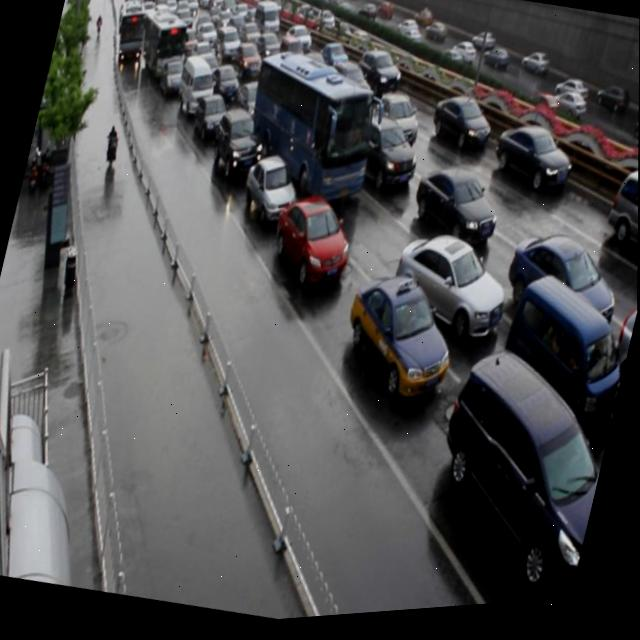car: (333, 269, 466, 417), (383, 229, 515, 359), (496, 232, 626, 353), (263, 191, 359, 299), (405, 166, 505, 257), (485, 126, 578, 216), (353, 116, 425, 206), (236, 151, 306, 235), (425, 92, 496, 162), (207, 108, 268, 184), (600, 296, 638, 415), (367, 95, 425, 159), (351, 50, 405, 108), (189, 93, 231, 151), (230, 84, 270, 134), (206, 65, 243, 112)
truck: (412, 343, 624, 613), (486, 273, 638, 454), (597, 172, 639, 282)
van: (232, 45, 389, 222)
